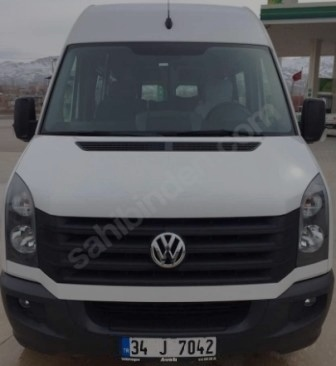plaka: (127, 332, 221, 358)
